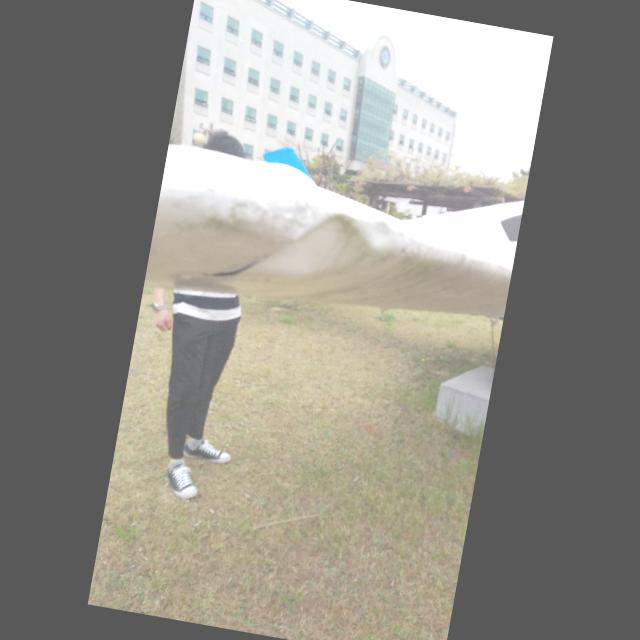dent: (247, 198, 372, 294), (358, 216, 402, 254)
